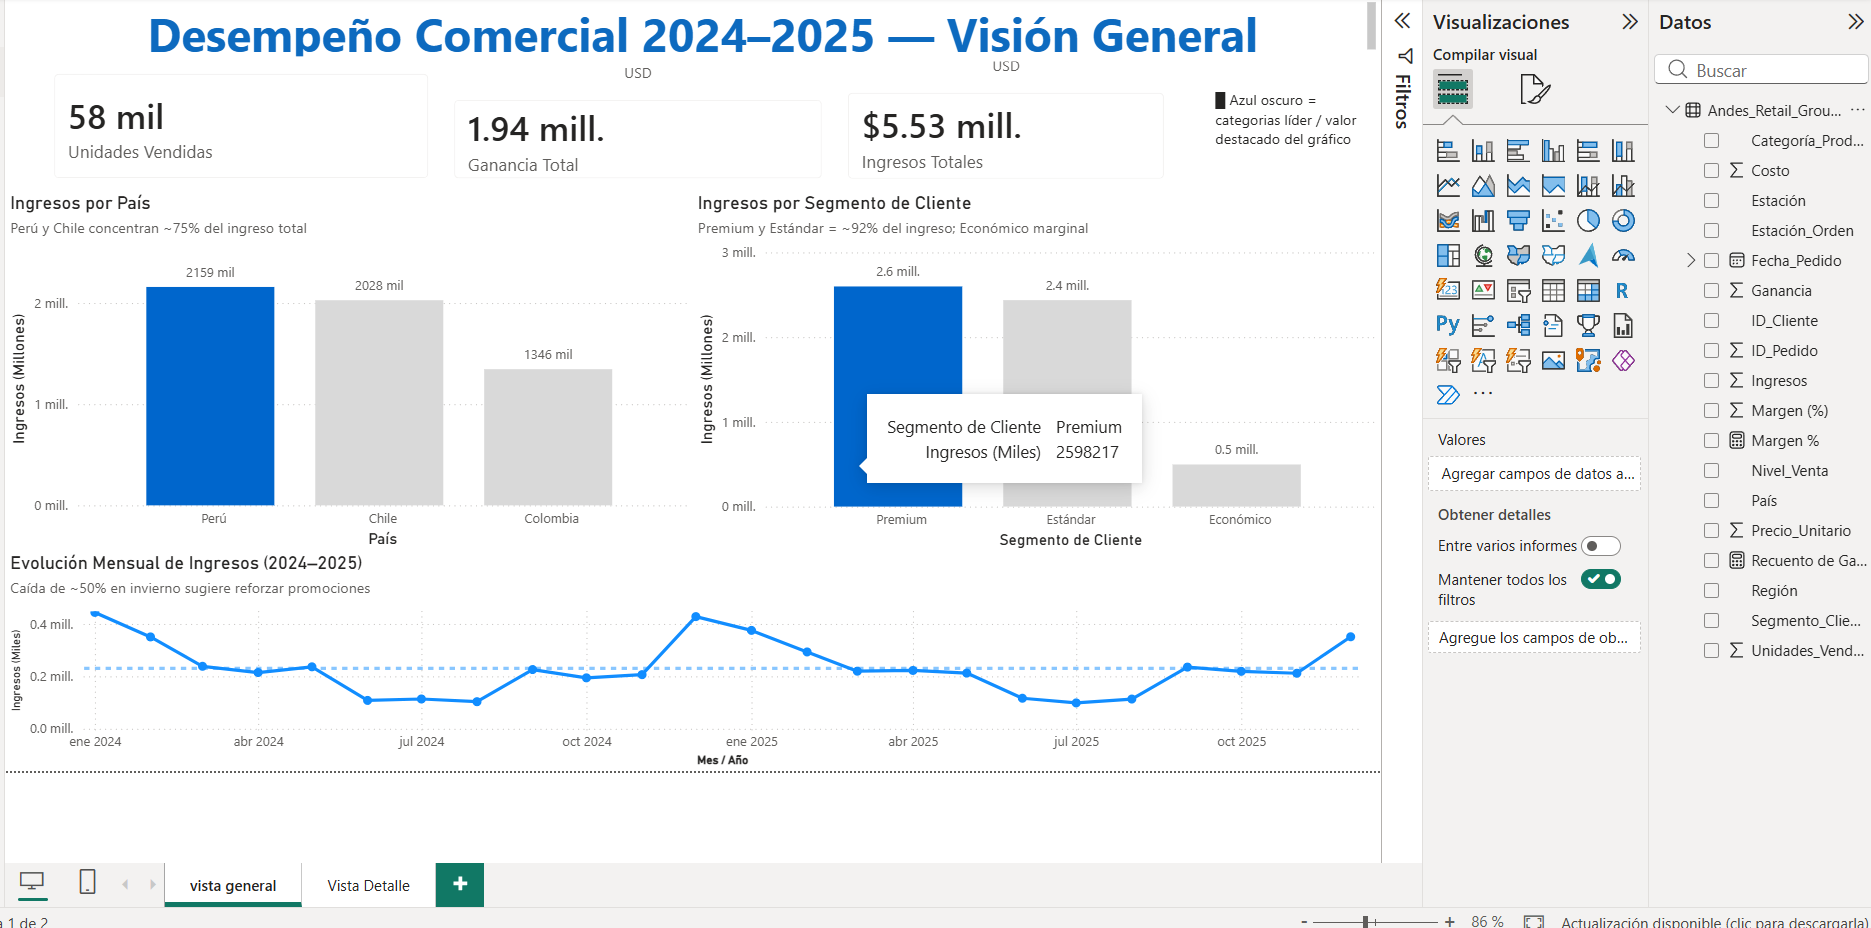

What the dashboard file says about the page in this screenshot:
{"tool":"powerbi","page":{"name":"vista general","canvas":[1280,720],"ordinal":0},"visuals":[{"type":"lineChart","title":"Evolución Mensual de Ingresos (2024–2025)","fields":{"Y":["Sum(Andes_Retail_Group_2024_2025.Ingresos)"],"Category":["Andes_Retail_Group_2024_2025.Fecha_Pedido.Variación.Jerarquía de fechas.Año","Andes_Retail_Group_2024_2025.Fecha_Pedido.Variación.Jerarquía de fechas.Mes"]},"box":[0,516,1280,203.8],"z":0},{"type":"clusteredColumnChart","title":"Ingresos por País","fields":{"Y":["Sum(Andes_Retail_Group_2024_2025.Ingresos)"],"Category":["Andes_Retail_Group_2024_2025.País"]},"box":[0,205.8,639.5,310.5],"z":1000},{"type":"cardVisual","fields":{"Data":["Sum(Andes_Retail_Group_2024_2025.Ingresos)"]},"box":[738.4,79.1,318.6,126.7],"z":2000},{"type":"cardVisual","fields":{"Data":["Sum(Andes_Retail_Group_2024_2025.Ganancia)"]},"box":[372.1,81.4,366.3,125.6],"z":3000},{"type":"cardVisual","fields":{"Data":["Sum(Andes_Retail_Group_2024_2025.Unidades_Vendidas)"]},"box":[0,79.1,372.1,126.7],"z":4000},{"type":"textbox","box":[25.7,0,1254.3,59.9],"z":5000},{"type":"clusteredColumnChart","title":"Ingresos por Segmento de Cliente","fields":{"Y":["Sum(Andes_Retail_Group_2024_2025.Ingresos)"],"Category":["Andes_Retail_Group_2024_2025.Segmento_Cliente"]},"box":[639.5,205.8,640.7,311.6],"z":6000},{"type":"textbox","box":[1095.4,138.4,159.3,67.4],"z":7000}]}

Visuals, with their boxes on the page's 1280x720 design canvas (x1, y1, x2, y2). These are canvas units, not pixel positions in the 1871x928 screenshot, which may show the page scaled, cropped or inside an application window:
"Evolución Mensual de Ingresos (2024–2025)" lineChart: [x1=0, y1=516, x2=1280, y2=720]
"Ingresos por País" clusteredColumnChart: [x1=0, y1=206, x2=640, y2=516]
cardVisual - Sum(Andes_Retail_Group_2024_2025.Ingresos): [x1=738, y1=79, x2=1057, y2=206]
cardVisual - Sum(Andes_Retail_Group_2024_2025.Ganancia): [x1=372, y1=81, x2=738, y2=207]
cardVisual - Sum(Andes_Retail_Group_2024_2025.Unidades_Vendidas): [x1=0, y1=79, x2=372, y2=206]
textbox: [x1=26, y1=0, x2=1280, y2=60]
"Ingresos por Segmento de Cliente" clusteredColumnChart: [x1=640, y1=206, x2=1280, y2=517]
textbox: [x1=1095, y1=138, x2=1255, y2=206]
